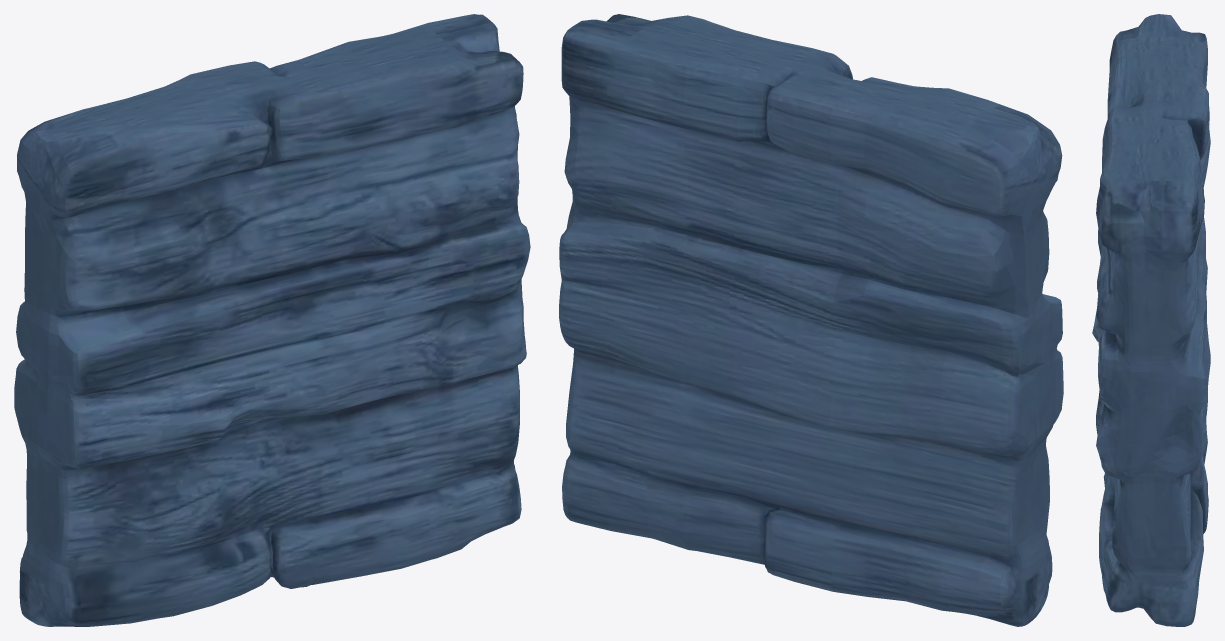
Rendered from wall_planks_blue.glb.
The picture shows the model from 3 angles, left to right: view 1: azimuth 30°, elevation 25°; view 2: azimuth 150°, elevation 25°; view 3: azimuth 270°, elevation 25°; orthographic projection. The views are drawn at different scales.
Bounding box in the file's own units: 1.91 × 1.91 × 0.4814.
Materials: 1 (1 with a texture image).
